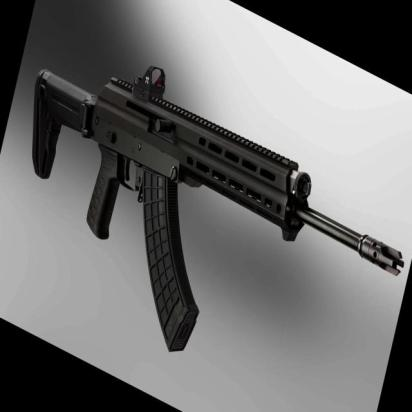Gun: (0, 20, 412, 412)
